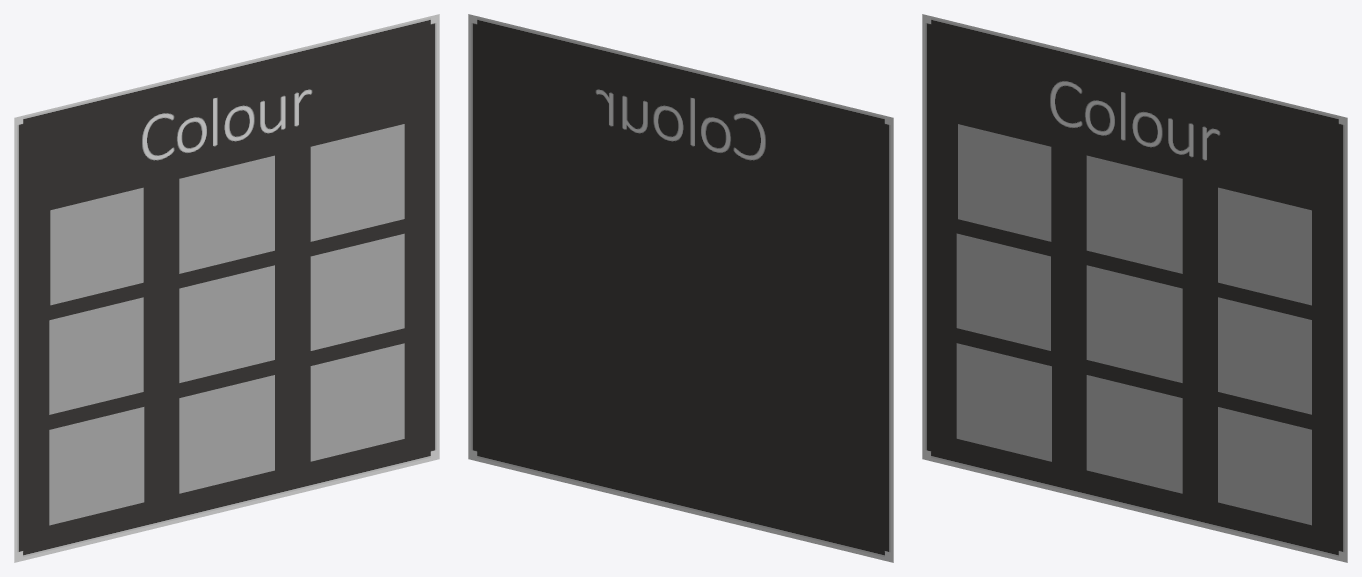
File: Colour_Selection_Panel.fbx
3 views of the same model, side by side, from view 1: azimuth 30°, elevation 25°; view 2: azimuth 150°, elevation 25°; view 3: azimuth 330°, elevation 25° (orthographic).
Parts seen in each view (by area): view 1: Colours_Background, swatch8, swatch7, swatch2, swatch5, swatch9, swatch3, swatch4, swatch6, swatch1; view 2: Colours_Background; view 3: Colours_Background, swatch8, swatch2, swatch5, swatch7, swatch4, swatch9, swatch3, swatch1, swatch6.
Boxes of the visible parts, x1,y1,x2,y2 form: Colours_Background: (14,14,439,562); swatch8: (179,375,274,493); swatch7: (49,407,144,525); swatch2: (179,155,274,273); swatch5: (179,265,274,382); swatch9: (310,343,404,461); swatch3: (310,124,404,241); swatch4: (49,297,143,414); swatch6: (310,233,404,350); swatch1: (50,187,143,305); Colours_Background: (468,14,893,562); Colours_Background: (922,14,1347,562); swatch8: (1086,375,1182,493); swatch2: (1086,155,1182,273); swatch5: (1086,265,1182,382); swatch7: (956,343,1051,461); swatch4: (956,233,1050,350); swatch9: (1218,407,1311,525); swatch3: (1218,187,1311,305); swatch1: (958,124,1051,241); swatch6: (1218,297,1311,414).
Size of the model in its own units: 2.18 by 2.18 by 0.00196.
